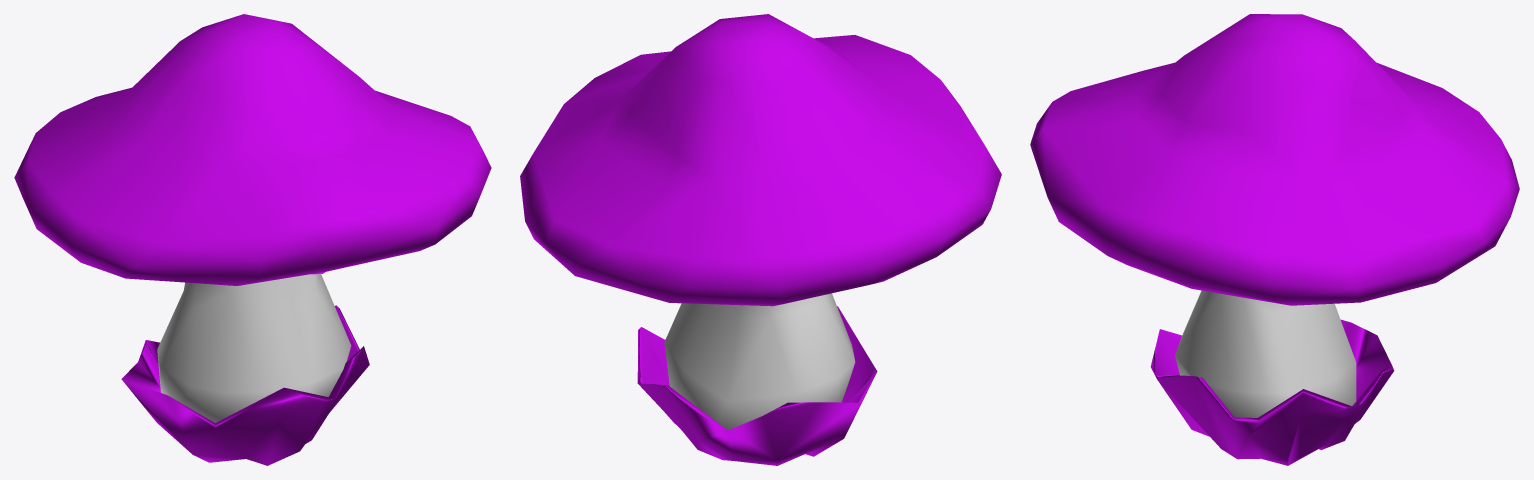
Rendered from mushroom.fbx.
3 views of the same model, side by side, from view 1: azimuth 30°, elevation 25°; view 2: azimuth 150°, elevation 25°; view 3: azimuth 270°, elevation 25° (orthographic). The views are drawn at different scales.
Parts seen in each view (by area): view 1: mushroom_lo; view 2: mushroom_lo; view 3: mushroom_lo.
Part boxes in pixels (x1=…): mushroom_lo: x1=14, y1=14, x2=491, y2=465; mushroom_lo: x1=520, y1=14, x2=1001, y2=465; mushroom_lo: x1=1030, y1=14, x2=1519, y2=465.
Bounding box in the file's own units: 3.13 × 3.03 × 3.15.
